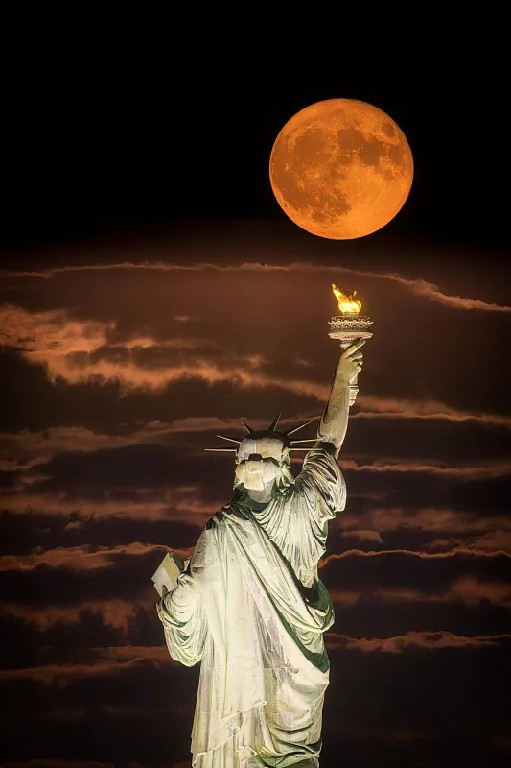SL: (149, 283, 376, 768)
